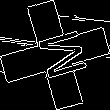M_W: (24, 26, 86, 84)
